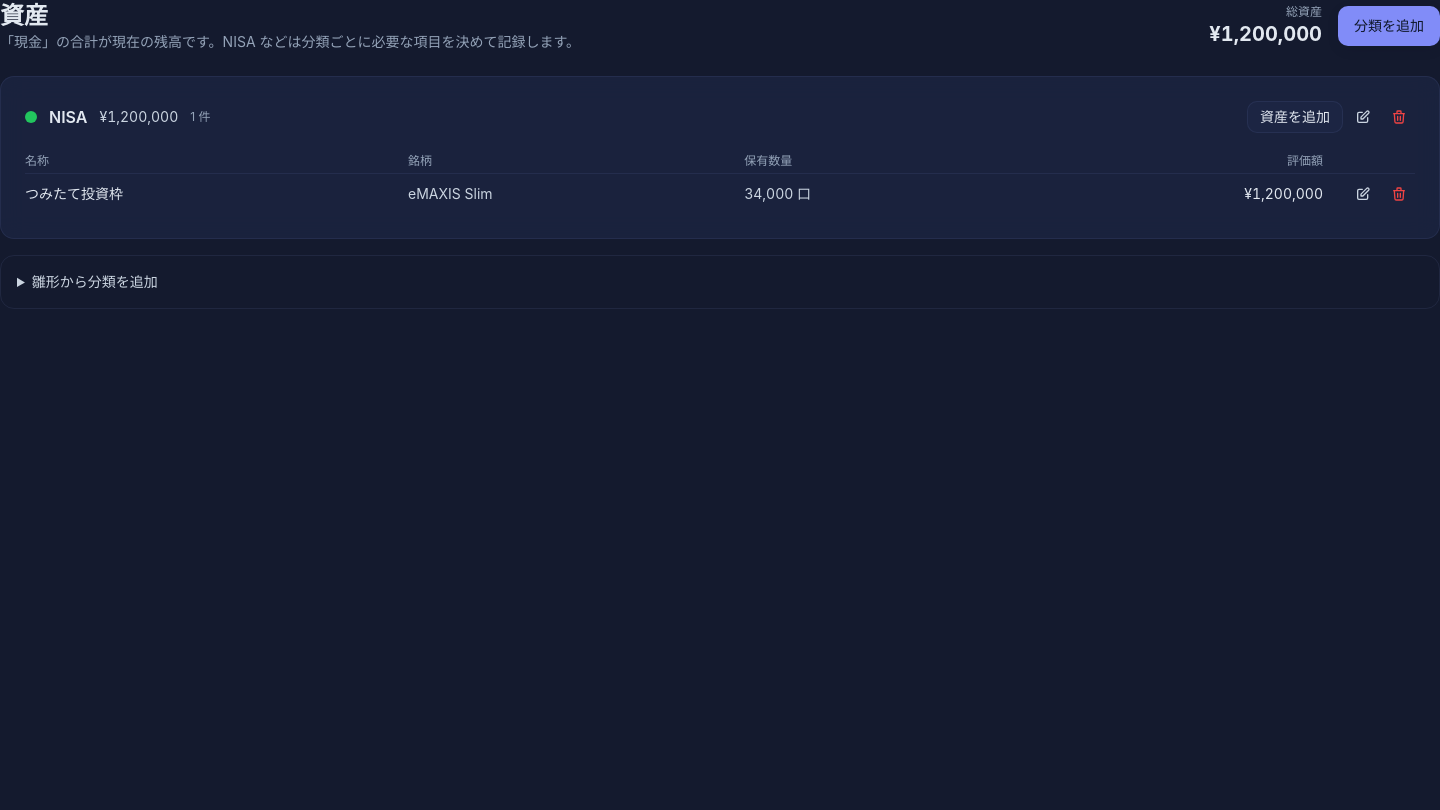
Test case: when the ledger tracks assets › warns that the holdings go with the category before deleting it
The image size is (1440, 810).
Click the button named "NISAの分類を削除".
click(1399, 117)  # box [1383, 101, 1415, 133]
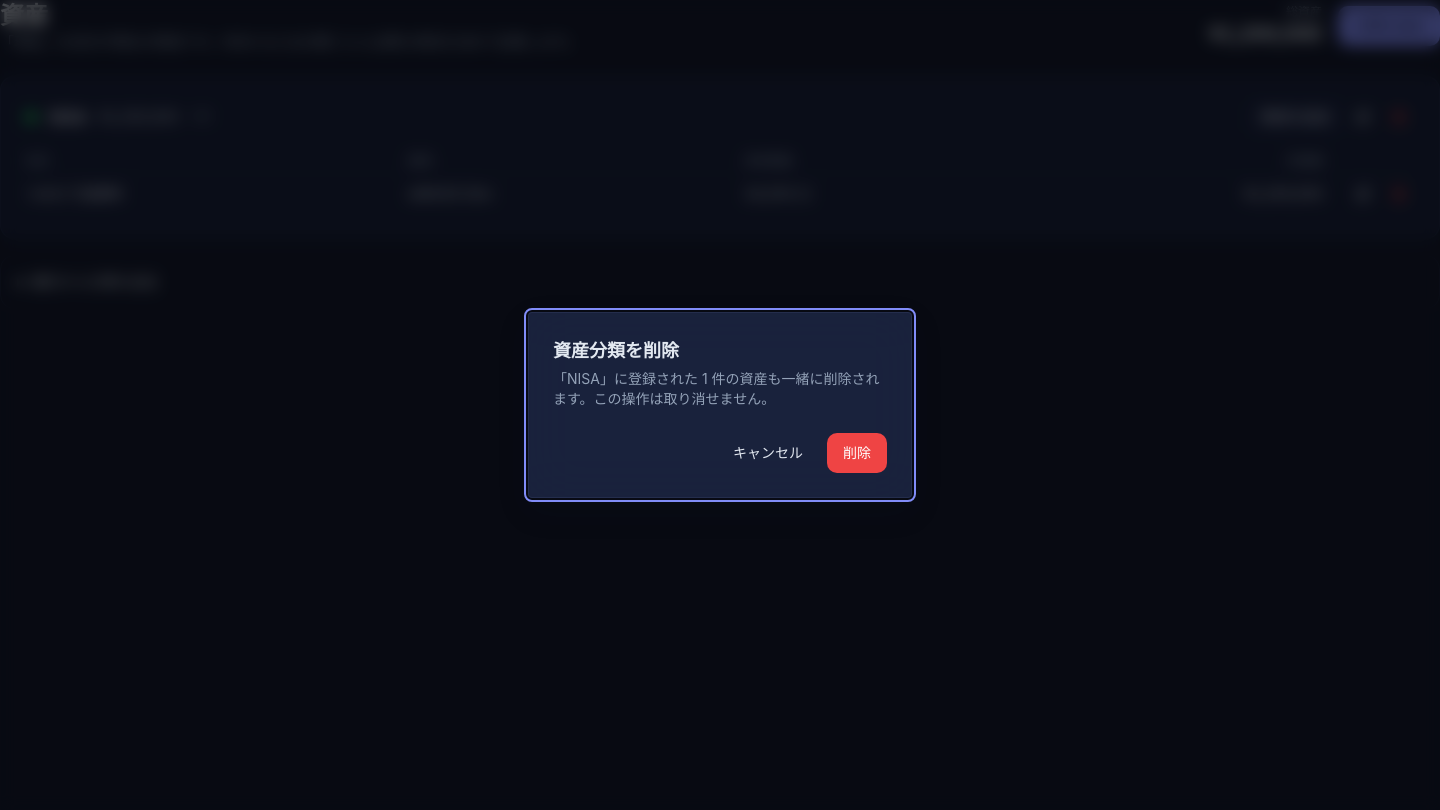
Expected: the text "「NISA」に登録された 1 件の資産も一緒に削除されます。この操作は取り消せません。" is shown, [553, 369, 887, 409]
